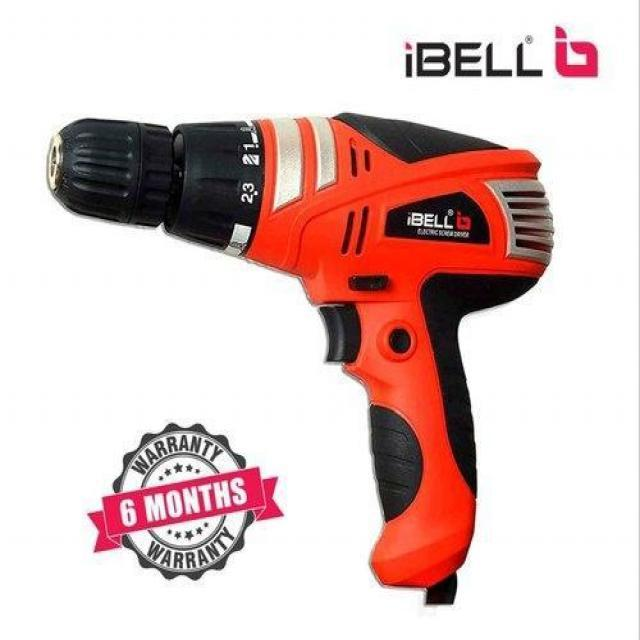drill: (45, 112, 555, 607)
